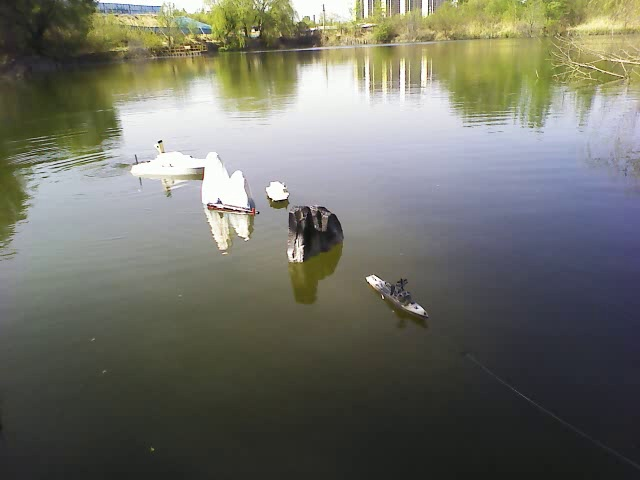aircraft_carrier: (265, 176, 293, 204)
boat: (124, 137, 208, 179)
iceberg: (199, 150, 252, 206)
rock: (286, 203, 346, 262)
submarine: (206, 195, 262, 220)
warship: (361, 269, 433, 325)
